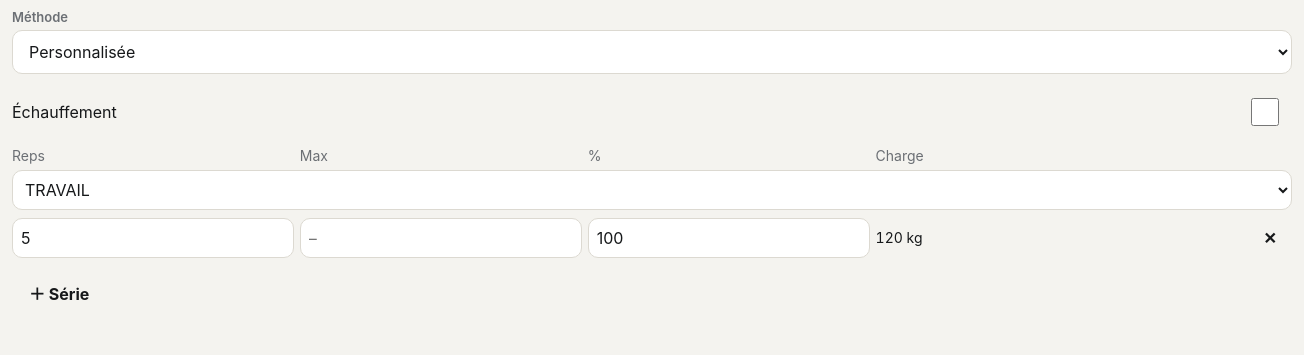
Test case: un modèle sans série qui compte affiche une erreur
Select "ÉCHAUF." in the dropdown named "Type série 1": point(652, 190) [12,170,1292,210]
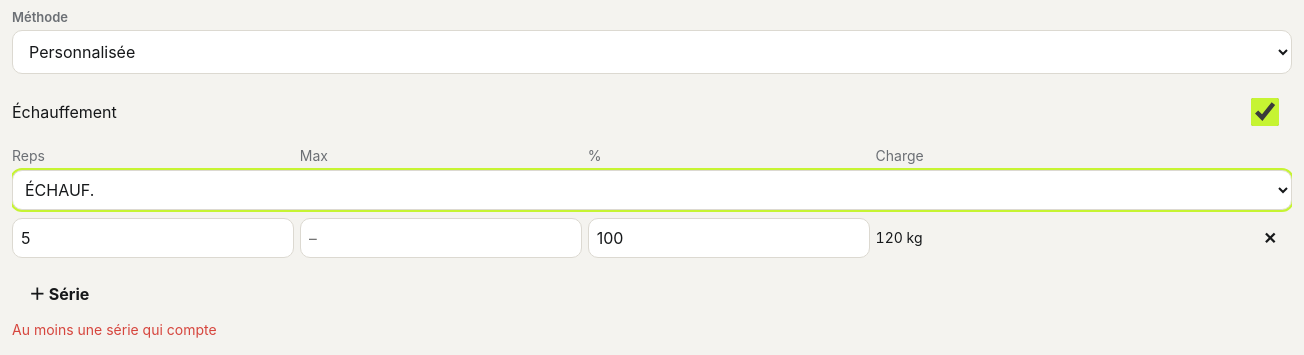
Now the text "Au moins une série qui compte" is shown, box [12,321,217,338]
